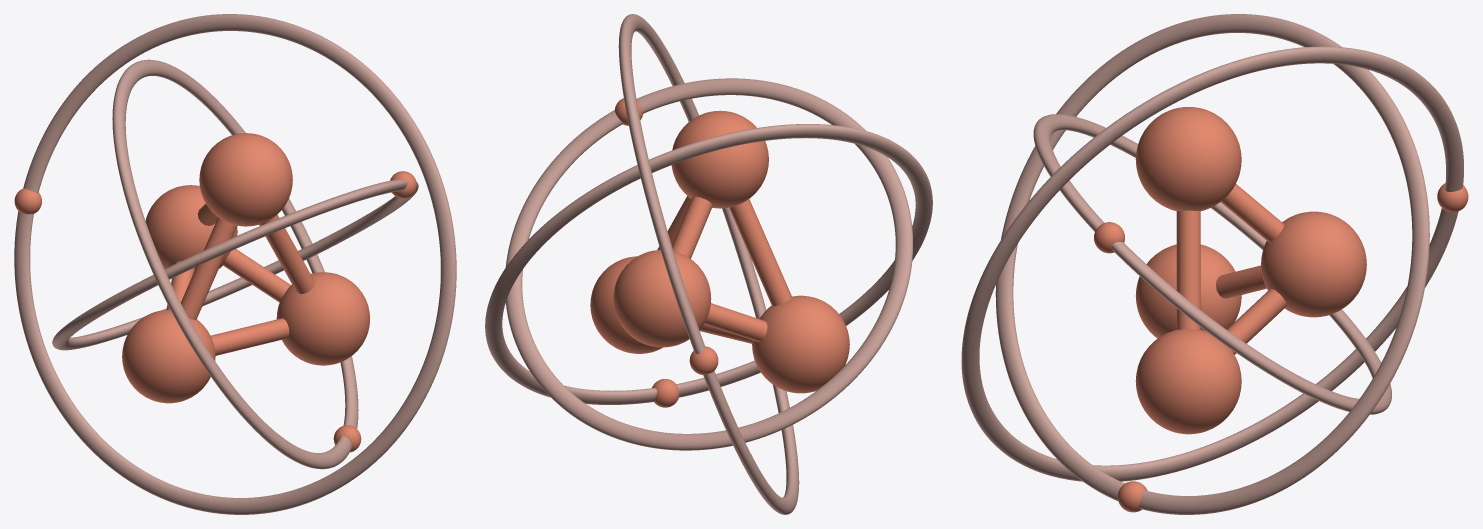
The picture shows the model from 3 angles, left to right: view 1: azimuth 30°, elevation 25°; view 2: azimuth 150°, elevation 25°; view 3: azimuth 270°, elevation 25°; orthographic projection. The views are drawn at different scales.
Bounding box in the file's own units: 0.9343 × 1.11 × 1.05.
